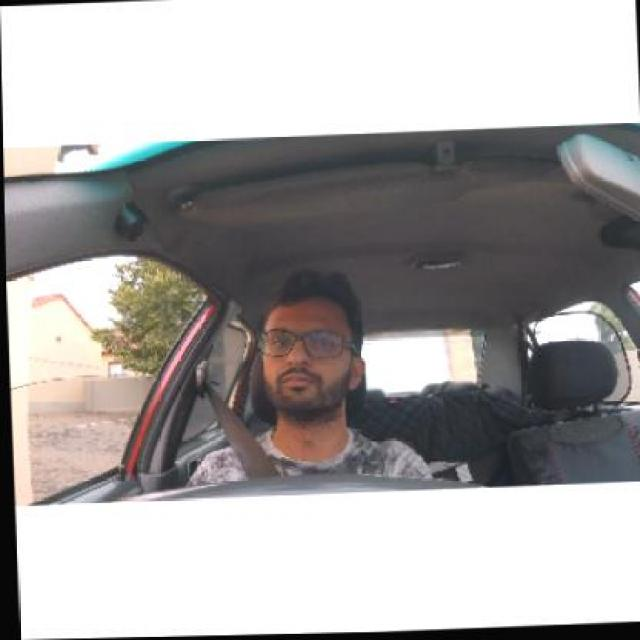person: (262, 291, 369, 417)
